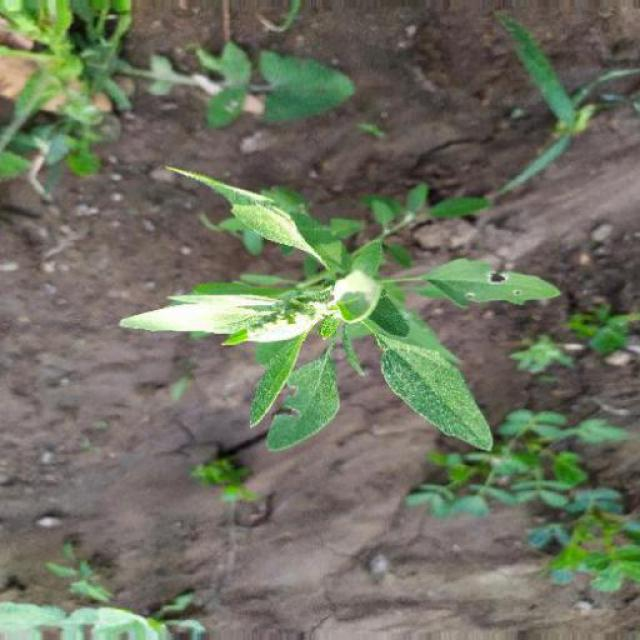weed: (124, 157, 566, 488)
